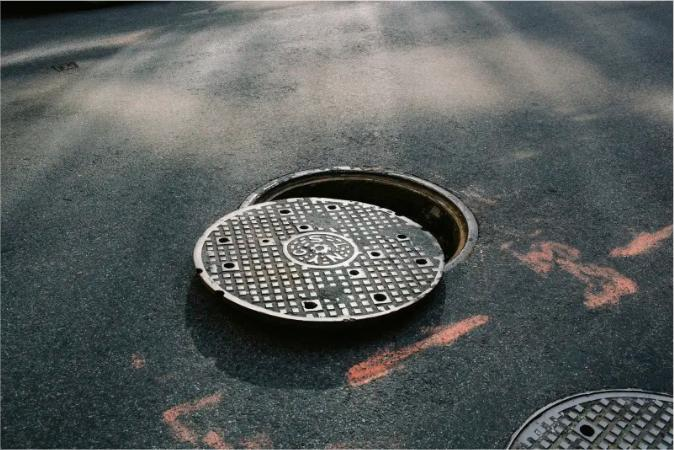wellcover: (178, 123, 501, 330)
